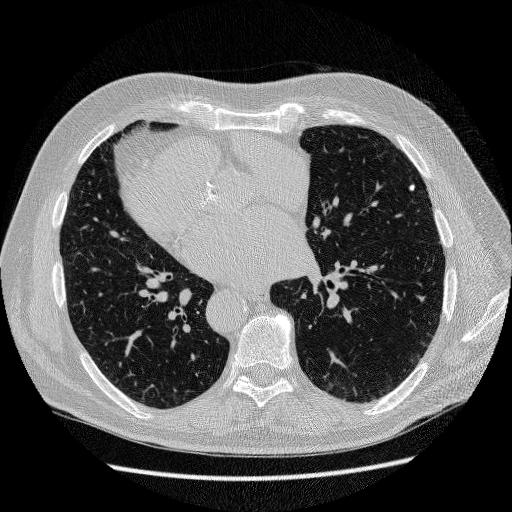nodule: (408, 183, 419, 194)
